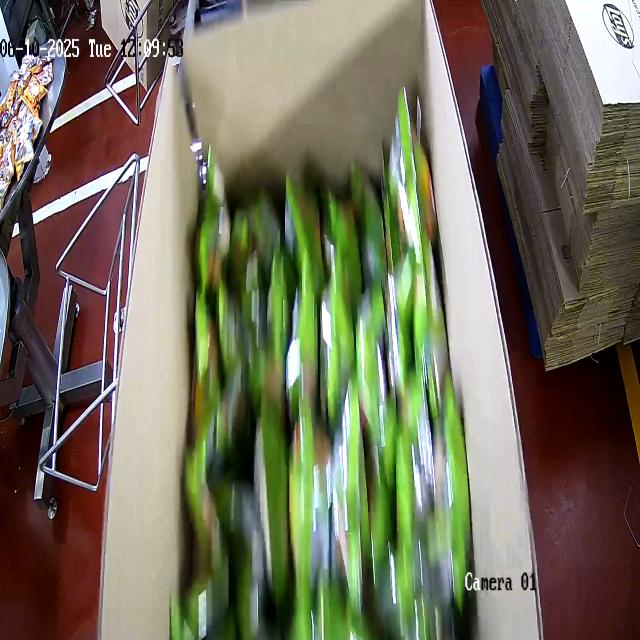YOGURT_HERB: (192, 126, 489, 640)
